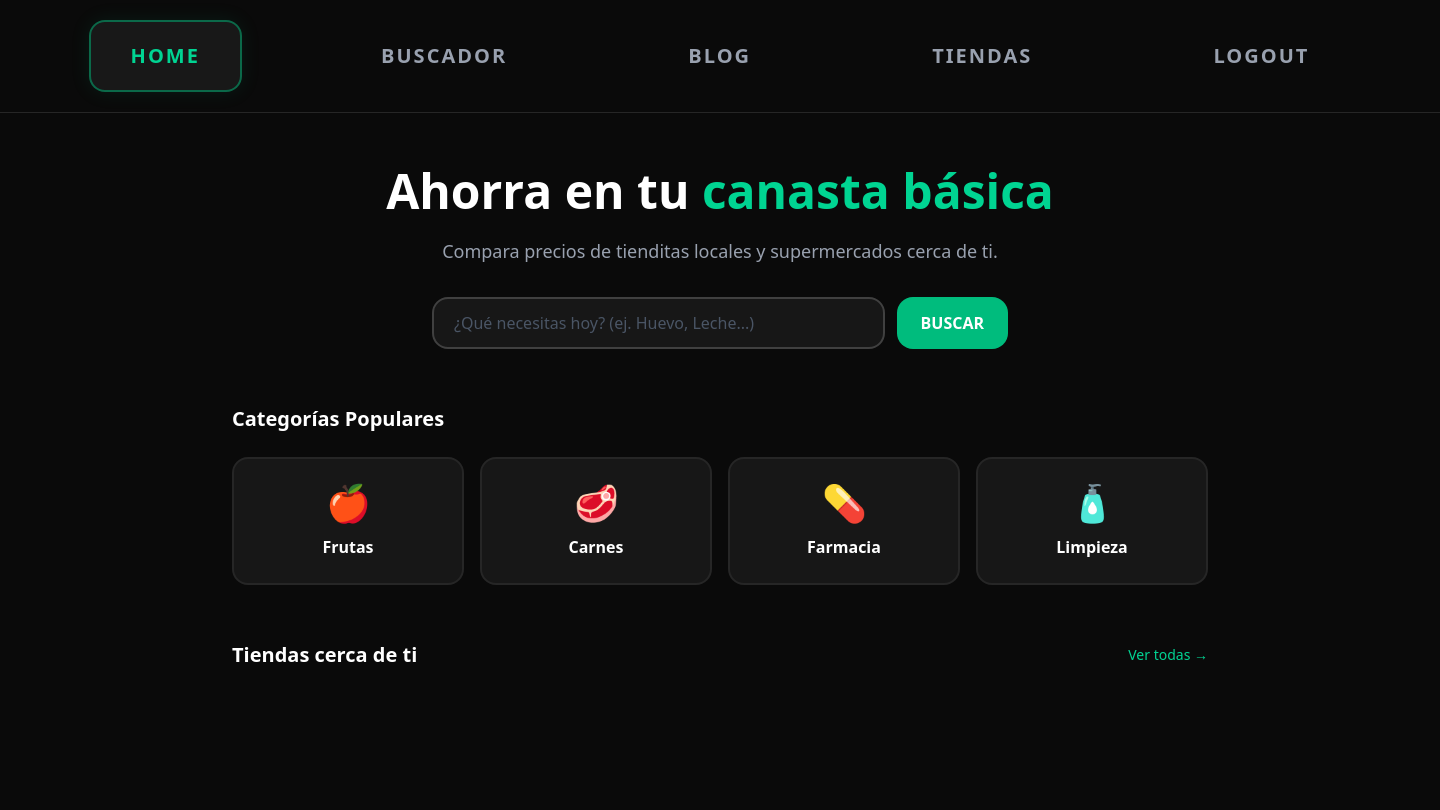
App - Navegación y accesibilidad › navega a Buscador al hacer click en el enlace
Step 1. Click the link "BUSCADOR" → (444, 56), box x1=381 y1=42 x2=507 y2=69
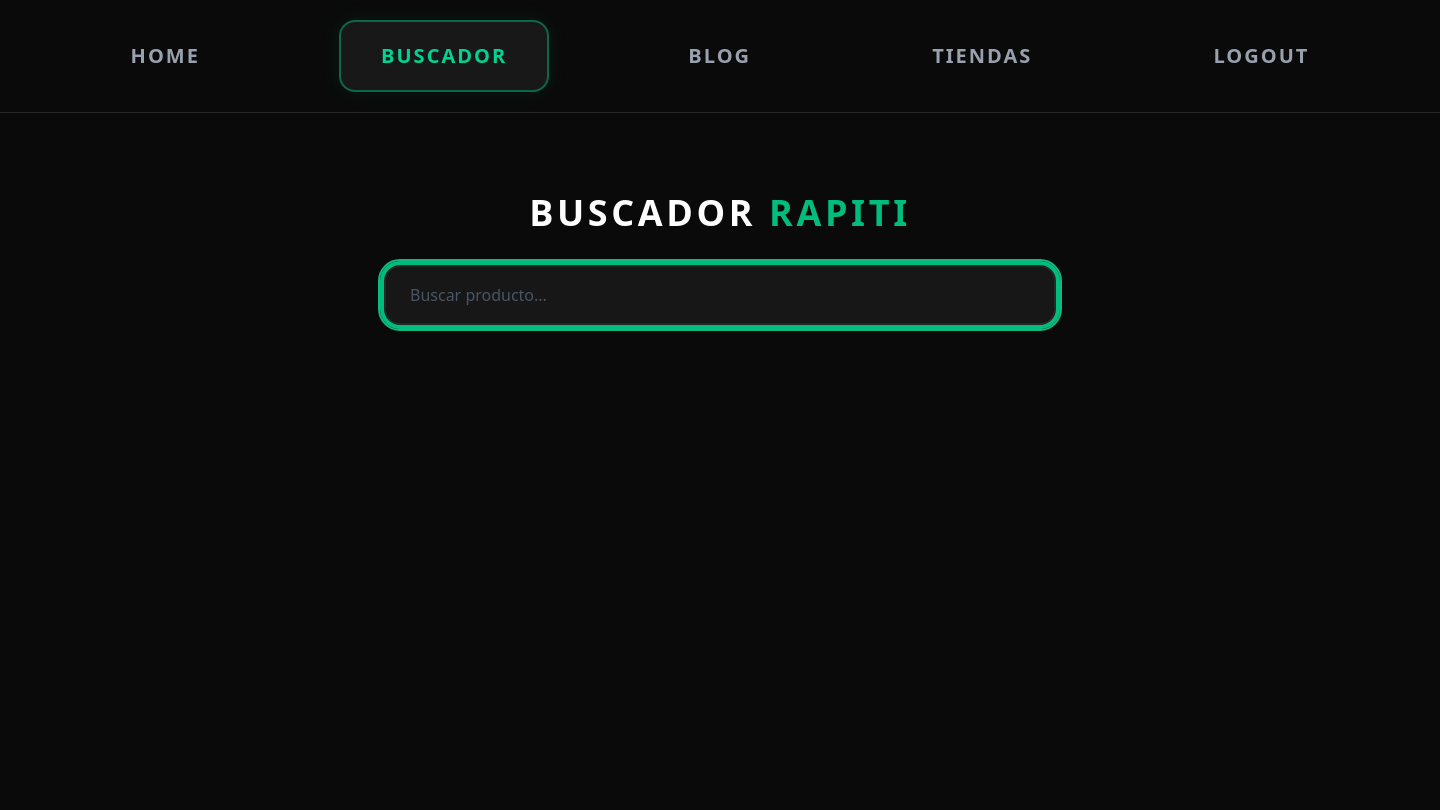
expect the field named "buscador de productos" is shown: met, box x1=384 y1=265 x2=1056 y2=325
